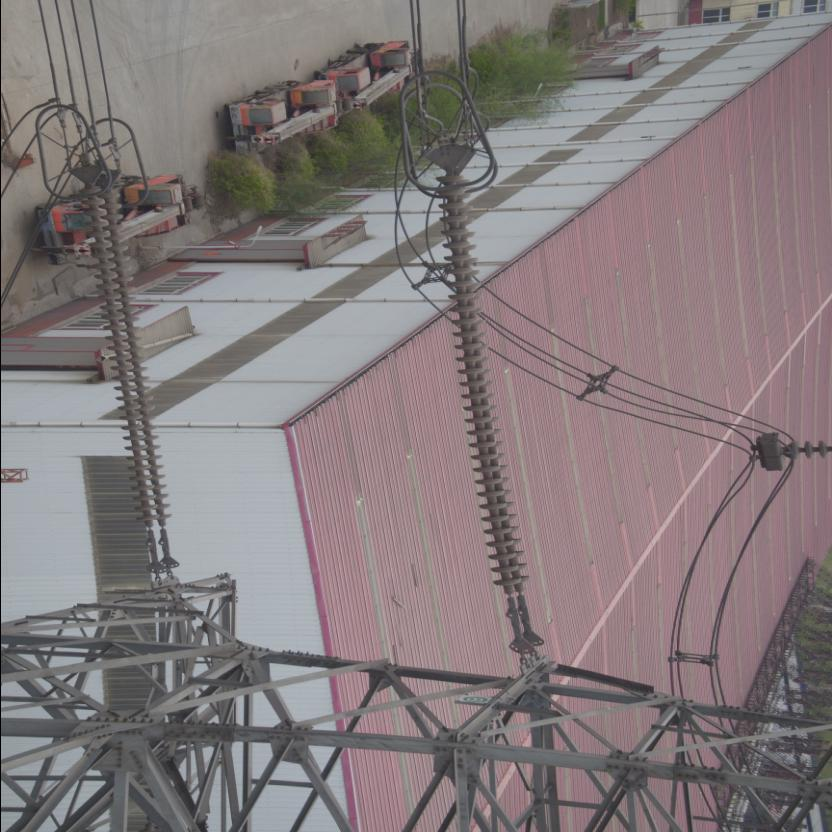insulator: (434, 158, 531, 618), (79, 177, 177, 545)
